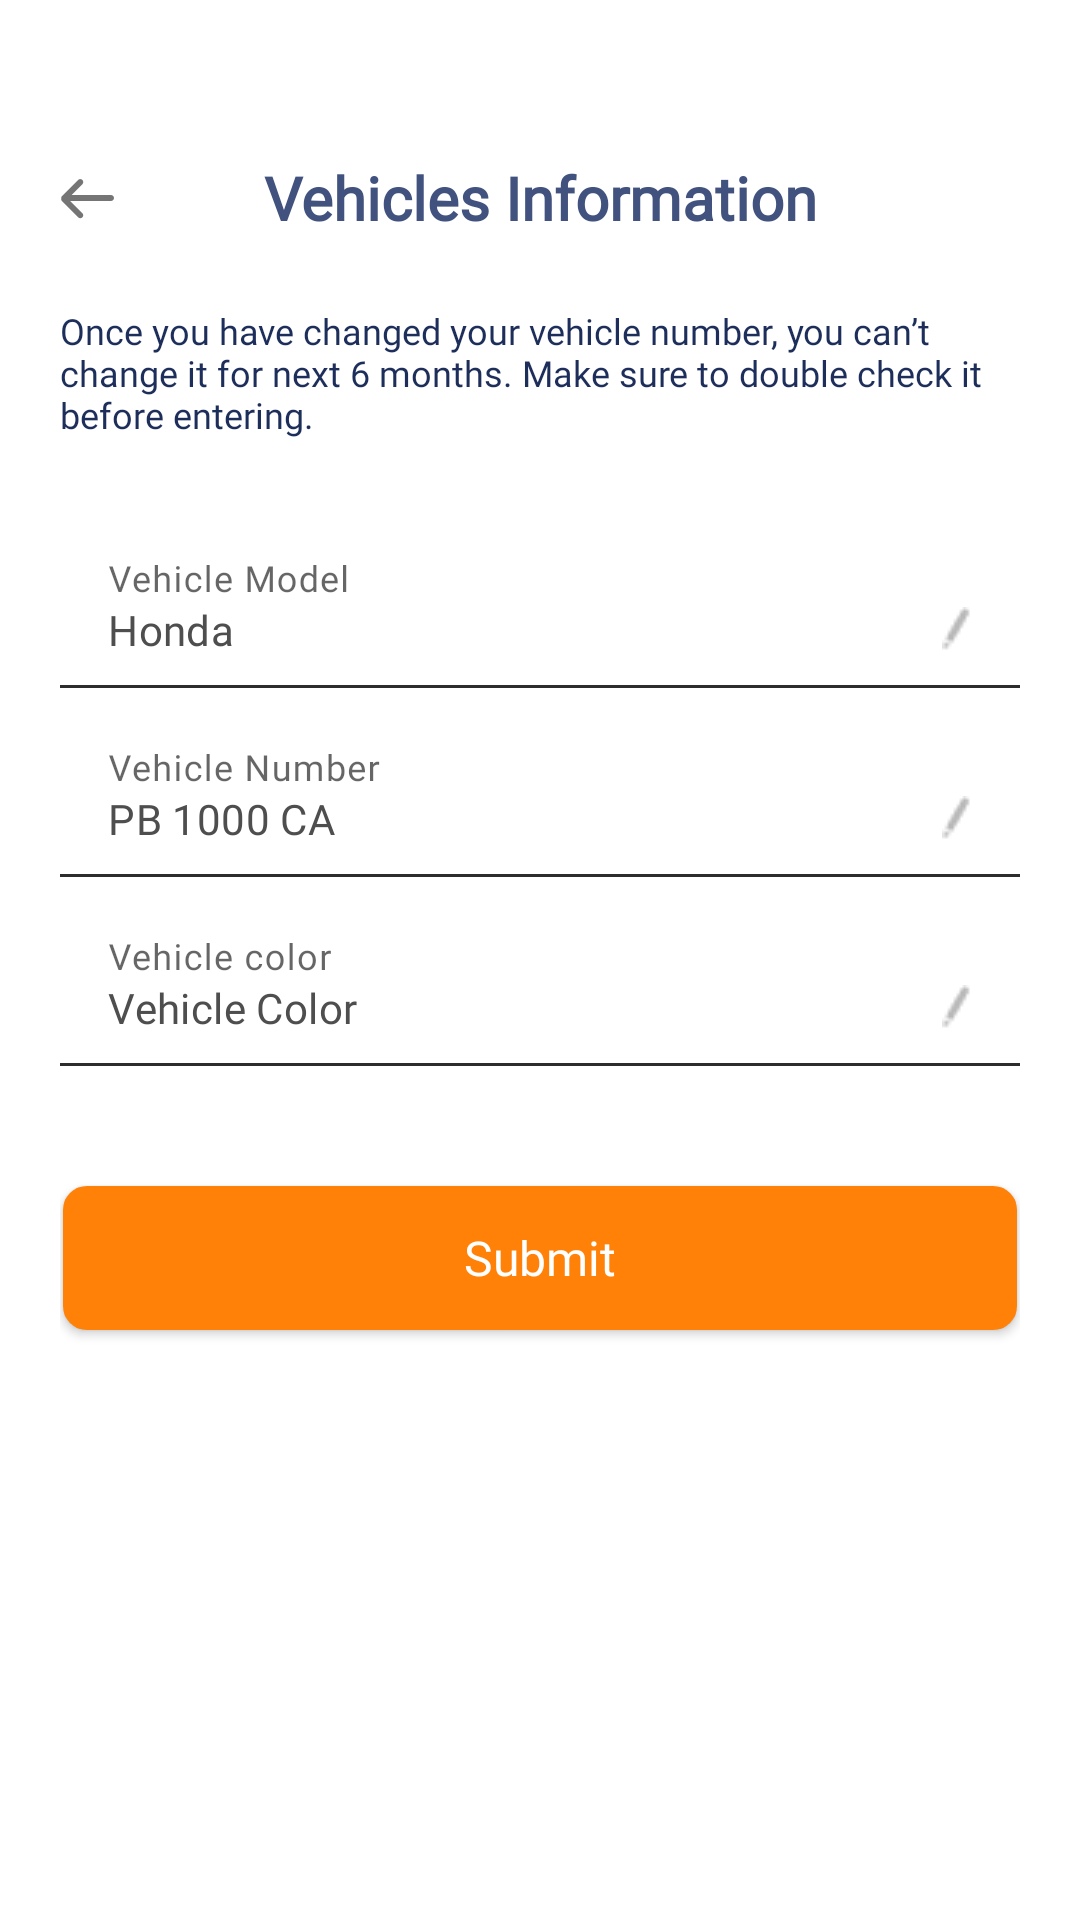

Locate icon controls on the screen. Image size 1080px×1920px, boxes as (x1, y1, x2, y2).
back: (61, 179, 114, 219)
